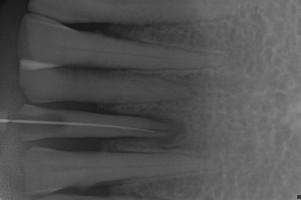Furcation Involvement: (133, 115, 186, 146)
